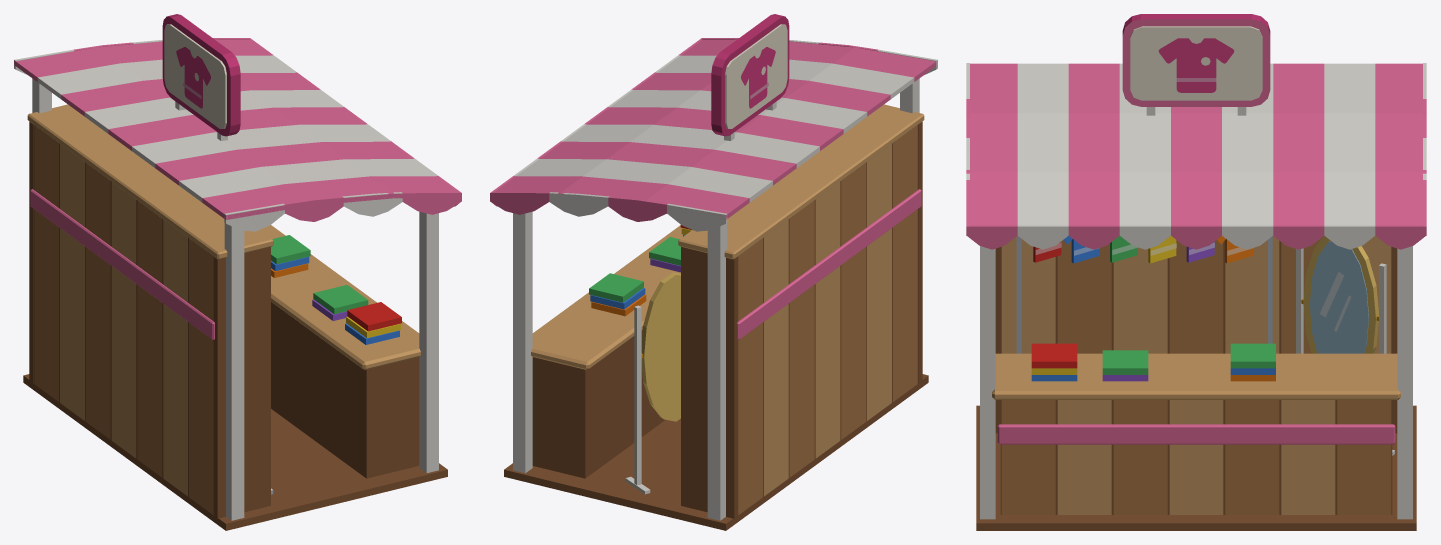
File: stall_skins.glb
3 renders of one model, left to right at view 1: azimuth 30°, elevation 25°; view 2: azimuth 150°, elevation 25°; view 3: azimuth 270°, elevation 25°, orthographic. The views are drawn at different scales.
Visible parts, largest first — view 1: StallSkins; view 2: StallSkins; view 3: StallSkins.
Boxes of the visible parts, x1,y1,x2,y2 form: StallSkins: [14, 14, 461, 530]; StallSkins: [490, 14, 937, 530]; StallSkins: [966, 14, 1426, 530].
Bounding box in the file's own units: 2.08 × 3.4 × 3.24.
